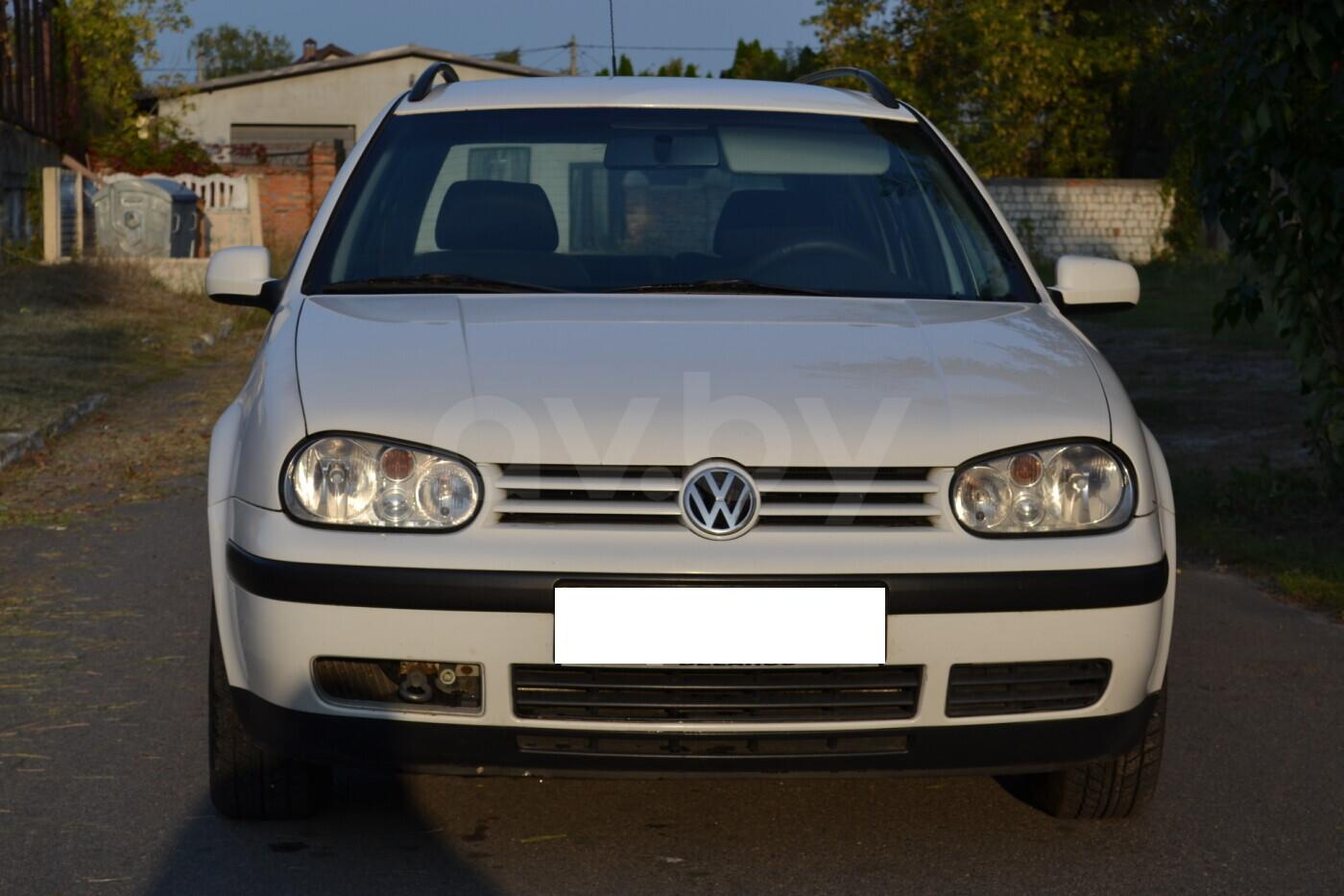Golf_1997-2006: (197, 64, 1180, 791)
